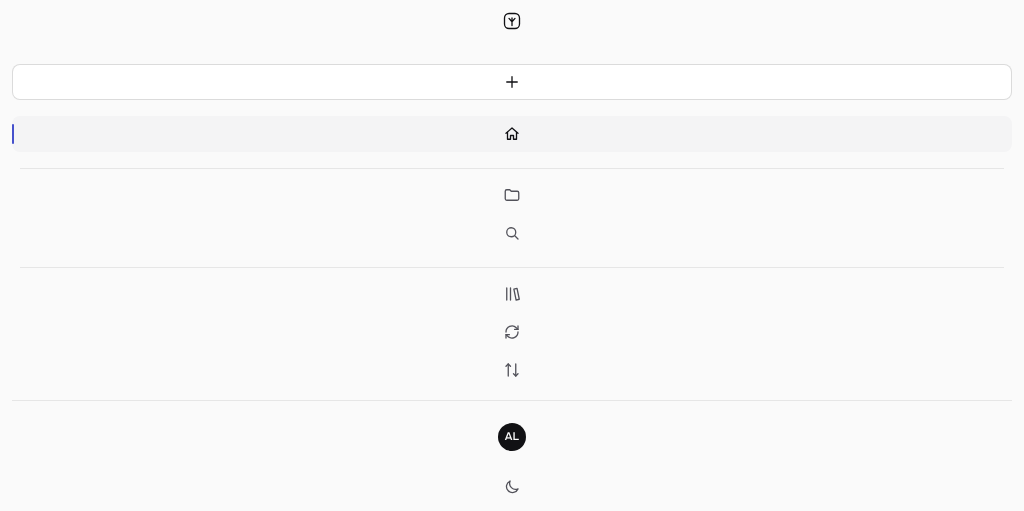
Scenario: sidebar footer, signed in › works from the collapsed rail, with the name still available
Click the button named "Ada Lovelace": (512, 437) [498, 413, 526, 461]
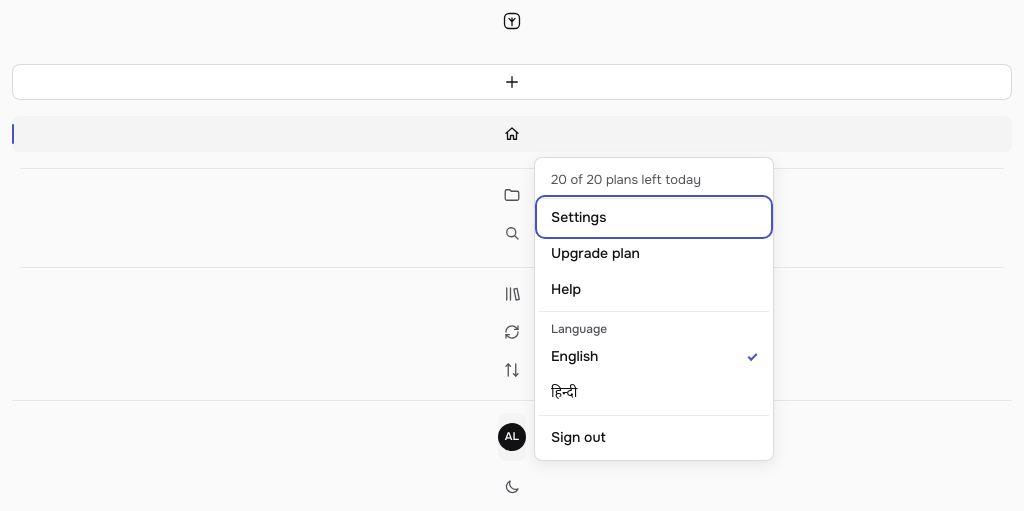
Result: the menu is shown at [534, 157, 774, 461]
Result: the menu item "Sign out" is shown at [539, 420, 769, 456]
